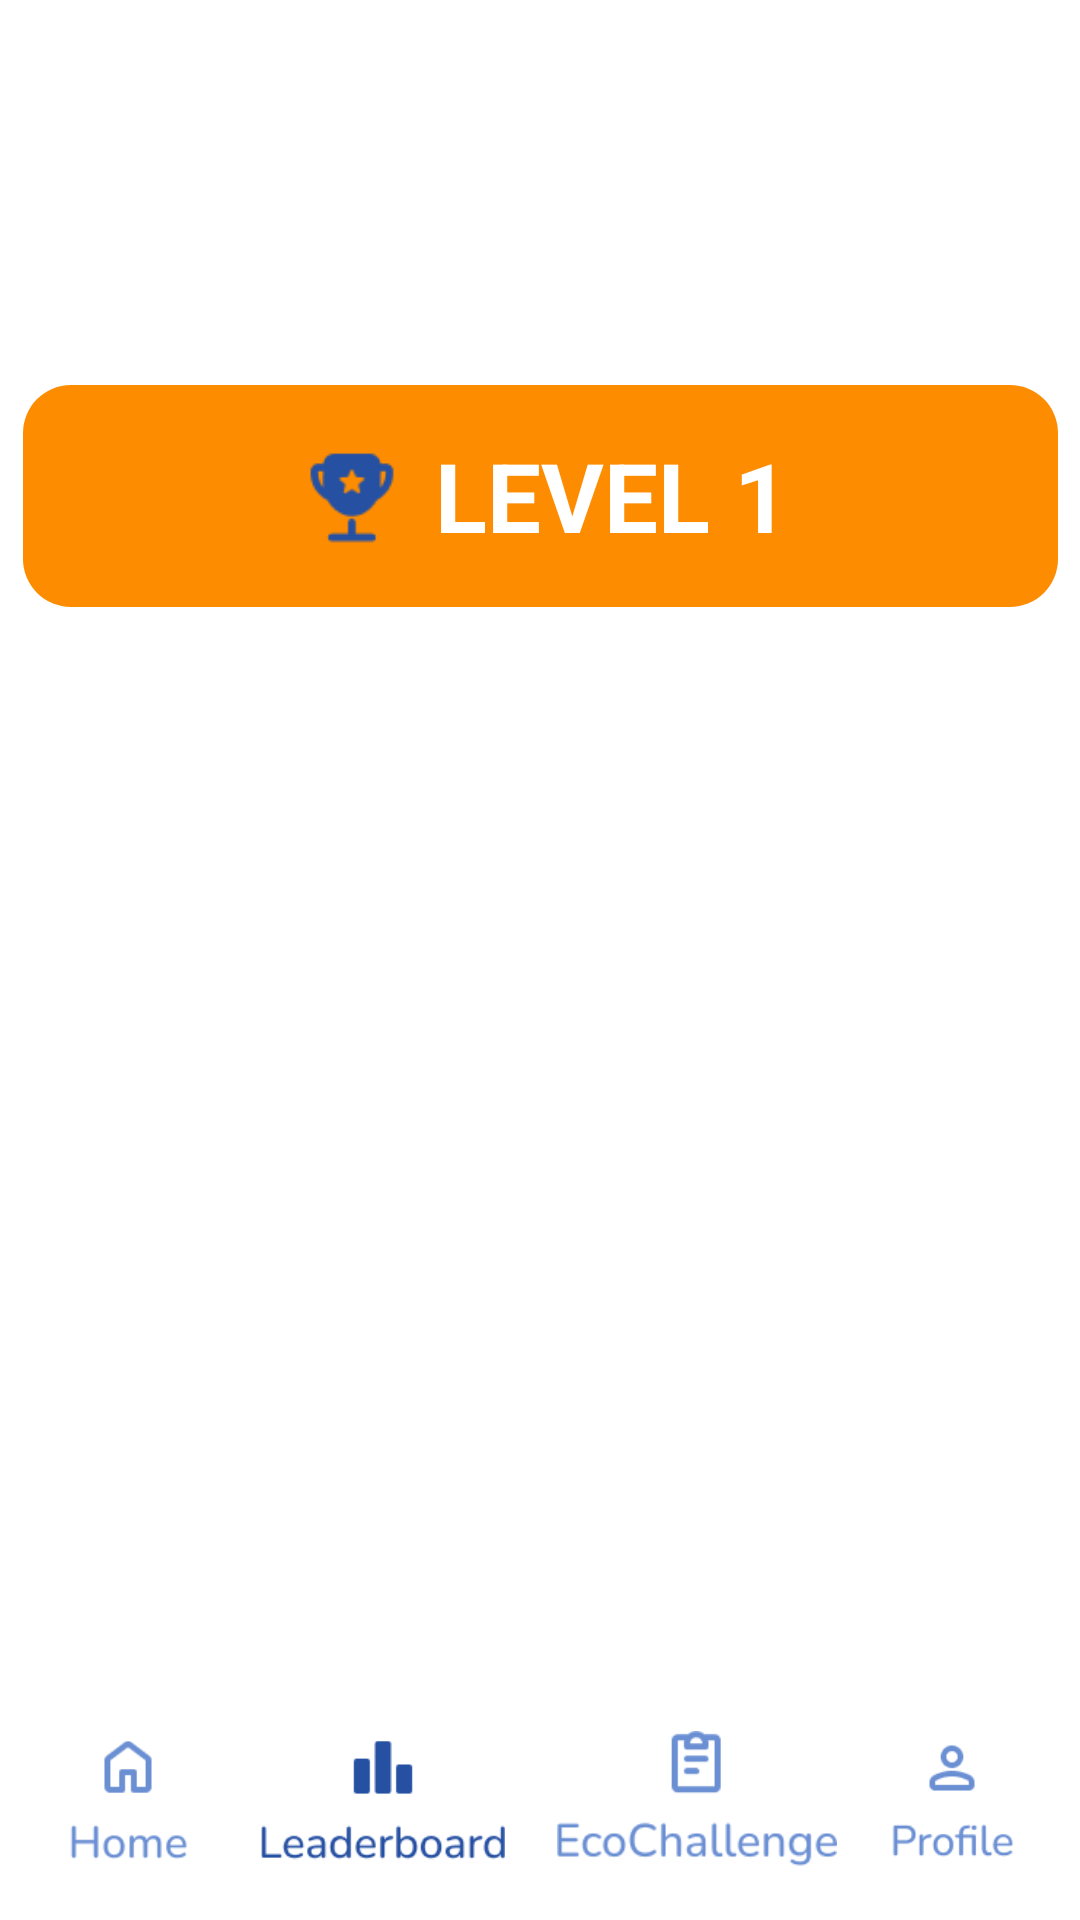

Point at icon controls on the screen. Image size 1080*1920, points as (x=x, y=y).
trophy: (x=352, y=498)
